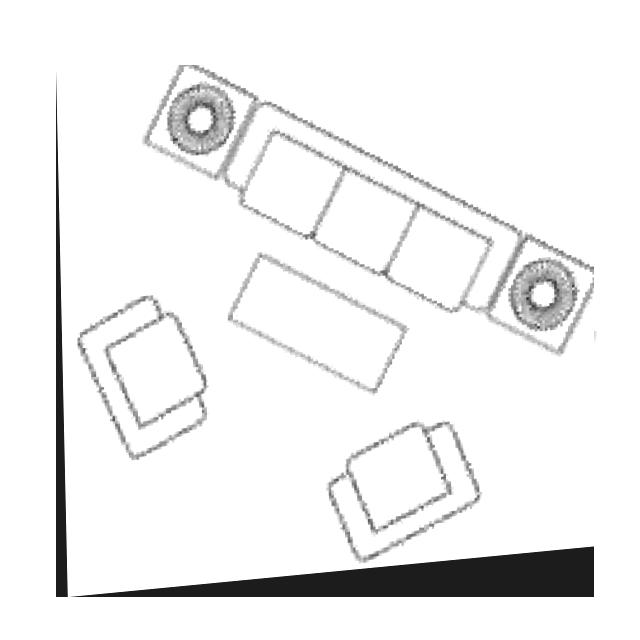sofa: (56, 65, 594, 597)
